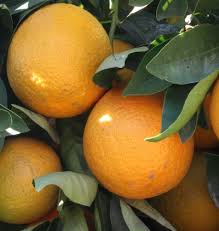orange: (79, 79, 195, 199), (6, 11, 114, 116), (1, 136, 64, 223)
